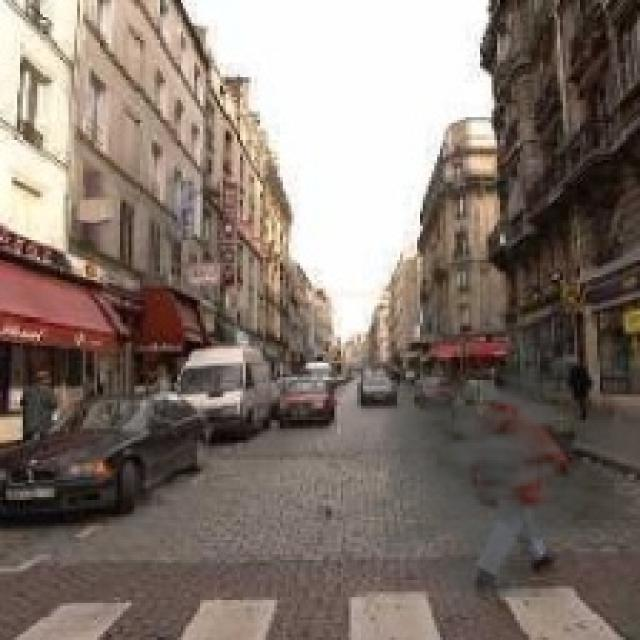smoke: (334, 346, 614, 597)
